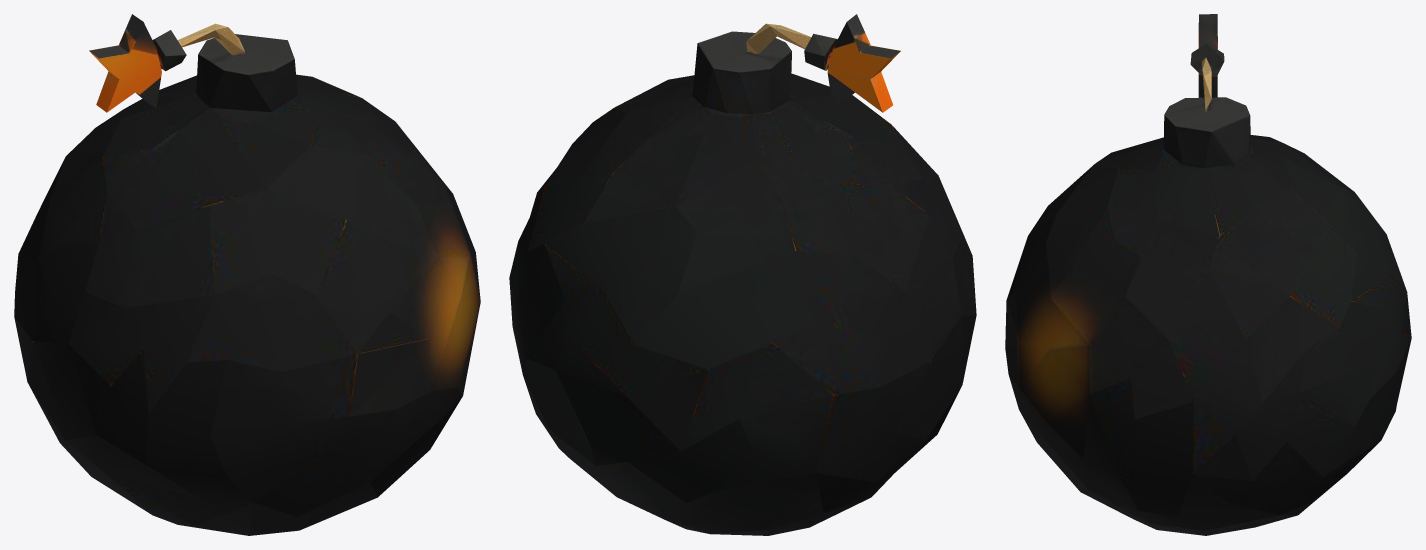
The model's file is bombe.glb.
3 renders of one model, left to right at view 1: azimuth 30°, elevation 25°; view 2: azimuth 150°, elevation 25°; view 3: azimuth 270°, elevation 25°, orthographic. The views are drawn at different scales.
Bounding box in the file's own units: 1.53 × 1.89 × 1.53.
Materials: 1 (1 with a texture image).
